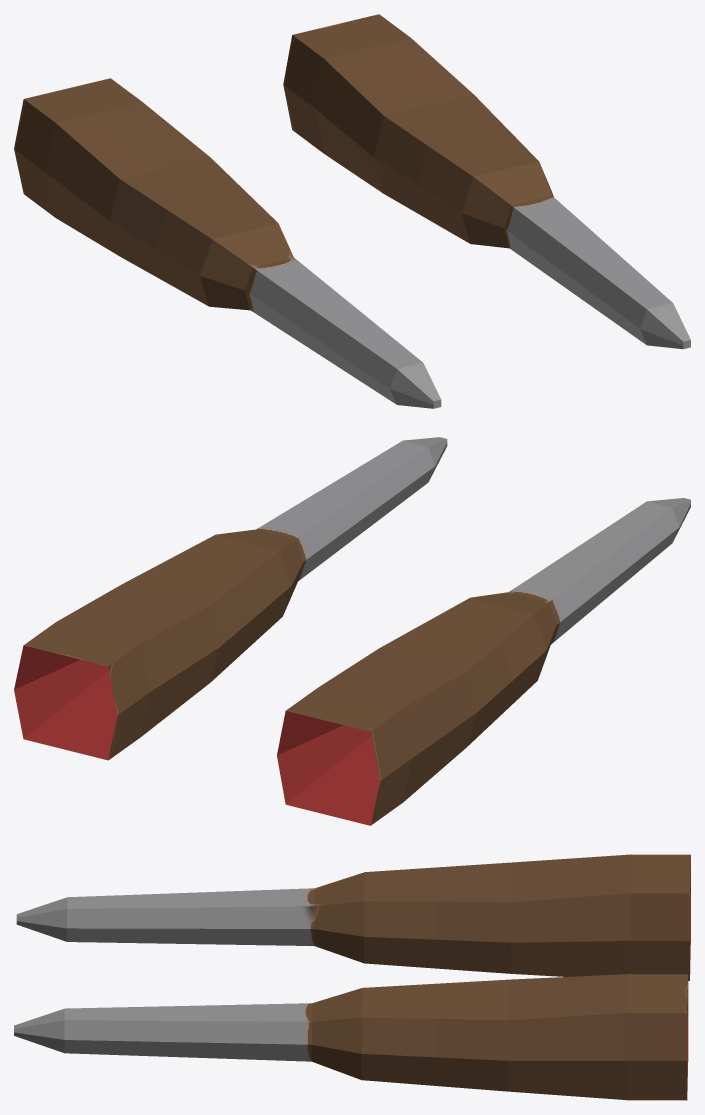
The model's file is Bullet.obj.
3 renders of one model, top to bottom at view 1: azimuth 30°, elevation 25°; view 2: azimuth 150°, elevation 25°; view 3: azimuth 270°, elevation 25°, orthographic. The views are drawn at different scales.
Visible parts, largest first — view 1: 立方体; view 2: 立方体; view 3: 立方体.
Part boxes in pixels (box(x1,y1,x2,y2)): 立方体: box(14, 14, 690, 408); 立方体: box(14, 437, 690, 825); 立方体: box(14, 854, 690, 1100).
Bounding box in the file's own units: 0.926 × 0.2247 × 1.58.
1 material, 1 textured.
